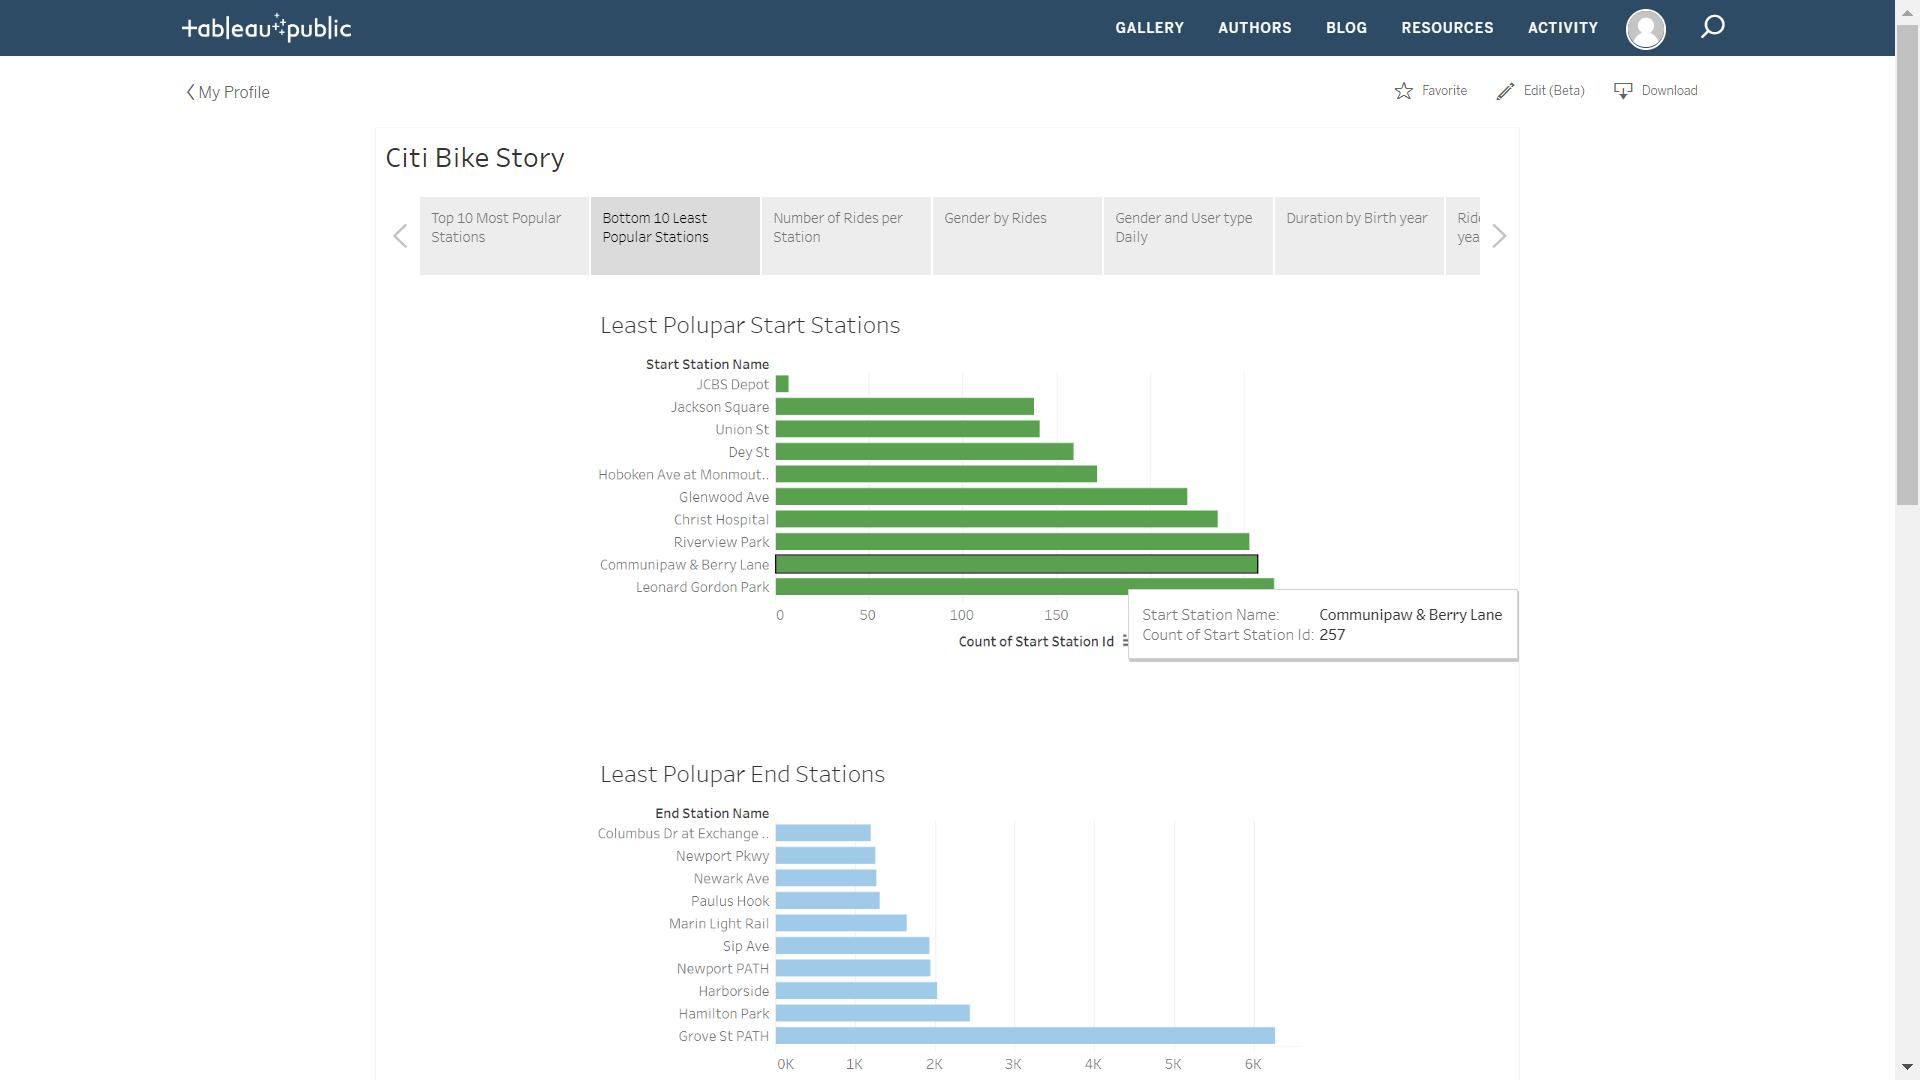

The page's visual inventory and layout, read from the dashboard file:
{"tool":"tableau","page":{"name":"Bottom 10","canvas":[650,860],"ordinal":1},"visuals":[{"type":"worksheet","title":"Least Polupar Start Stations","mark":"Automatic","rows":["start station name"],"cols":["start station id"],"box":[8,8,634,422]},{"type":"worksheet","title":"Least Polupar End Stations ","mark":"Automatic","rows":["end station name"],"cols":["end station id"],"box":[8,430,634,422]}]}

Visuals, with their boxes on the page's 650x860 design canvas (x1, y1, x2, y2). These are canvas units, not pixel positions in the 1920x1080 screenshot, which may show the page scaled, cropped or inside an application window:
"Least Polupar Start Stations" worksheet: 8:8:642:430
"Least Polupar End Stations " worksheet: 8:430:642:852
